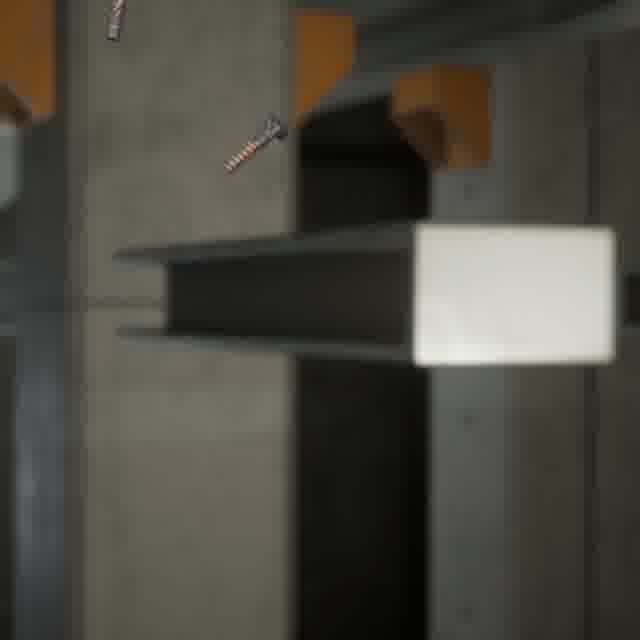bolt: (218, 108, 292, 178), (101, 0, 131, 46)
